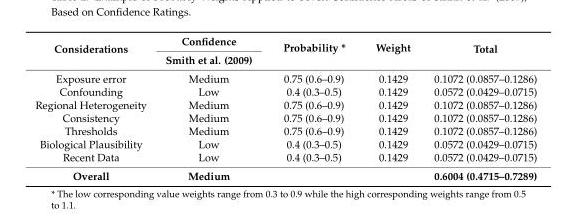table: (34, 34, 536, 182)
table column: (34, 34, 155, 182), (421, 34, 536, 182), (155, 34, 267, 182), (267, 34, 359, 182), (359, 34, 421, 182)
table column header: (34, 34, 536, 68)
table row: (34, 50, 536, 68), (34, 34, 536, 50), (34, 68, 536, 84), (34, 150, 536, 166), (34, 166, 536, 182), (34, 110, 536, 124), (34, 84, 536, 97), (34, 97, 536, 110), (34, 124, 536, 137), (34, 137, 536, 150)
table spanning cell: (34, 34, 155, 68), (421, 34, 536, 68), (155, 34, 267, 68), (267, 34, 359, 68), (359, 34, 421, 68)
